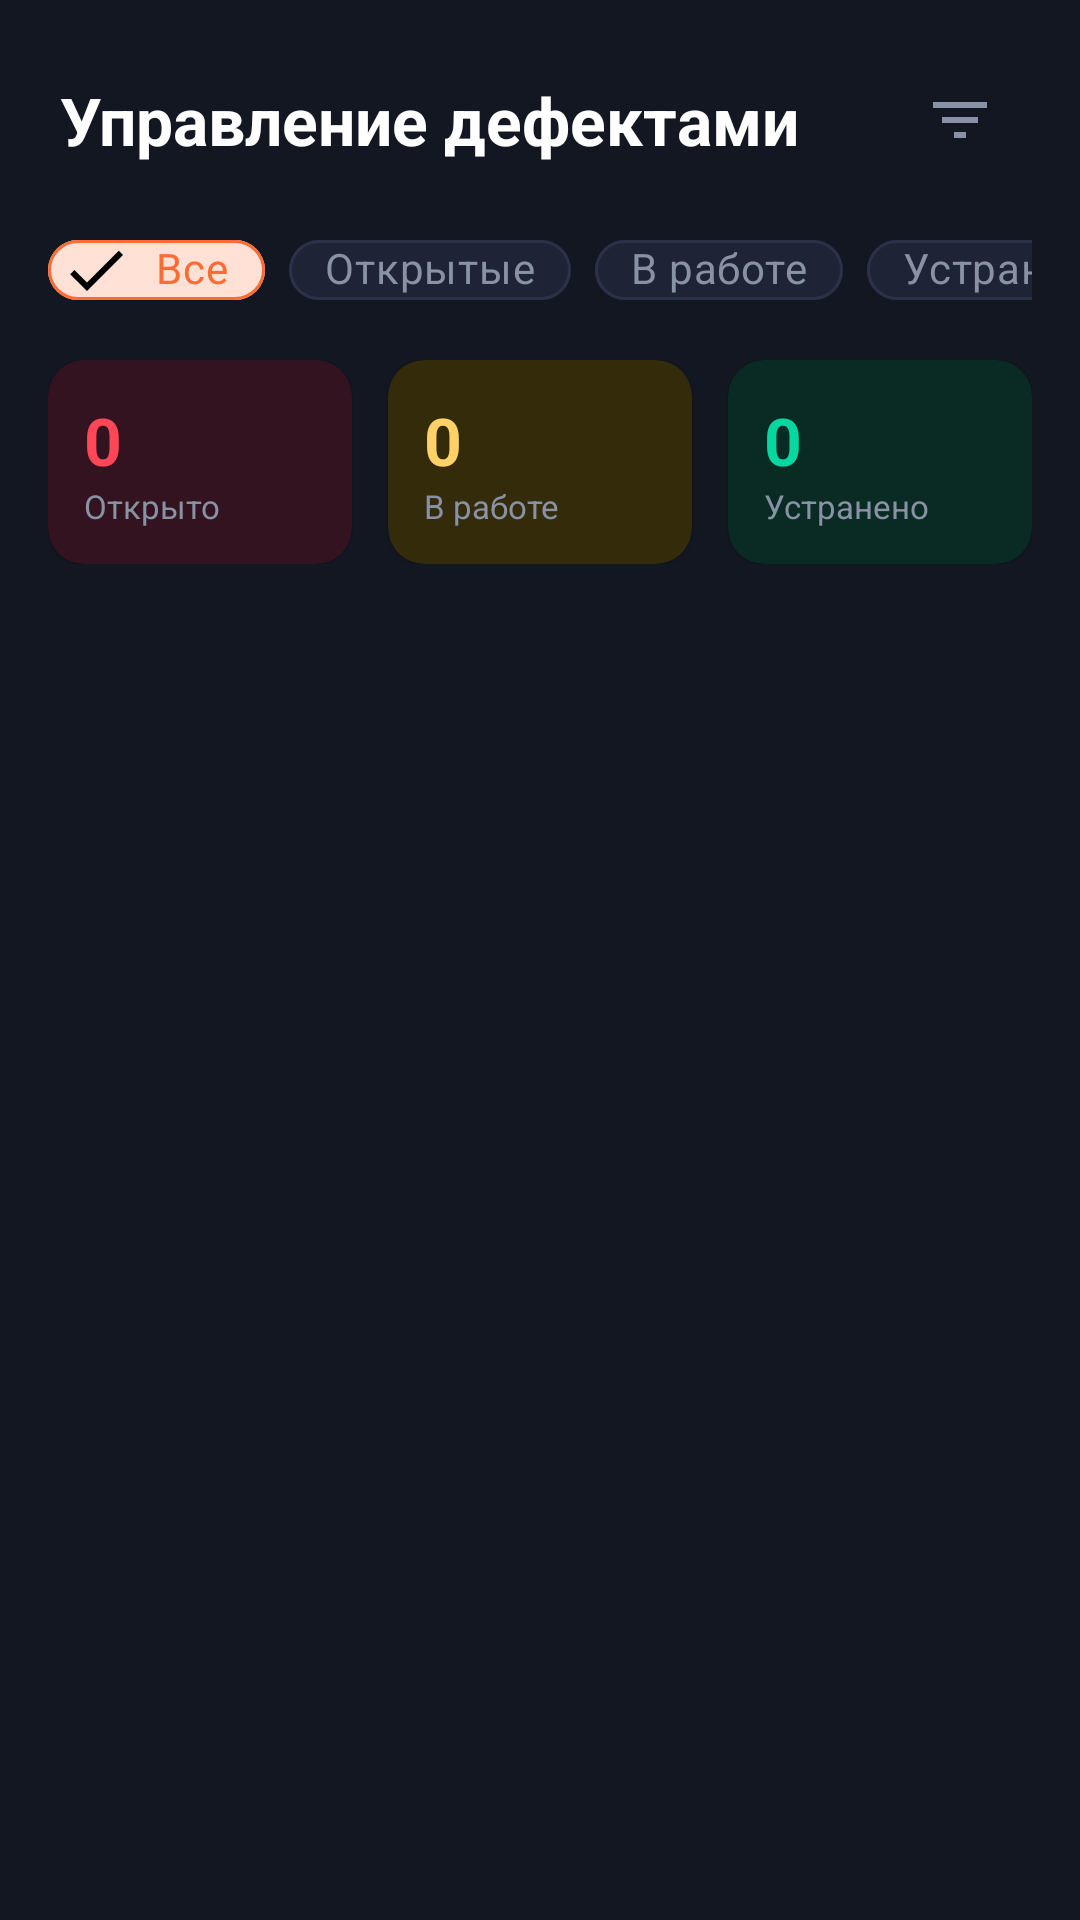

Icon click points for this 1080px x 1920px phone screenshot, format (x=x, y=y):
filter: (x=960, y=120)
